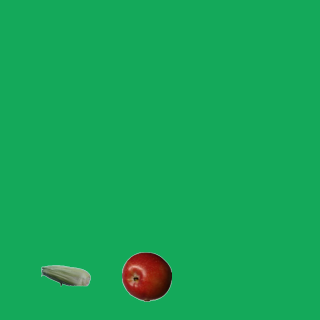Apple Braeburn: (121, 251, 171, 301)
Corn Husk: (40, 250, 90, 300)
